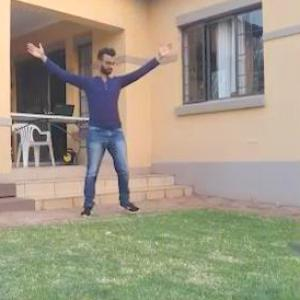takeoff: (15, 36, 173, 214)
